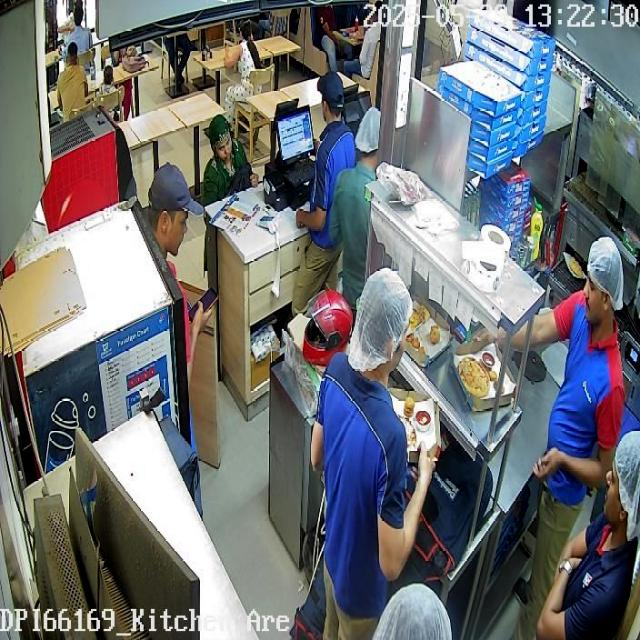helmet: (301, 290, 354, 365)
no_helmet: (346, 268, 415, 380), (148, 164, 204, 261), (601, 429, 639, 552), (583, 237, 623, 331), (317, 70, 344, 125), (208, 114, 232, 162)
